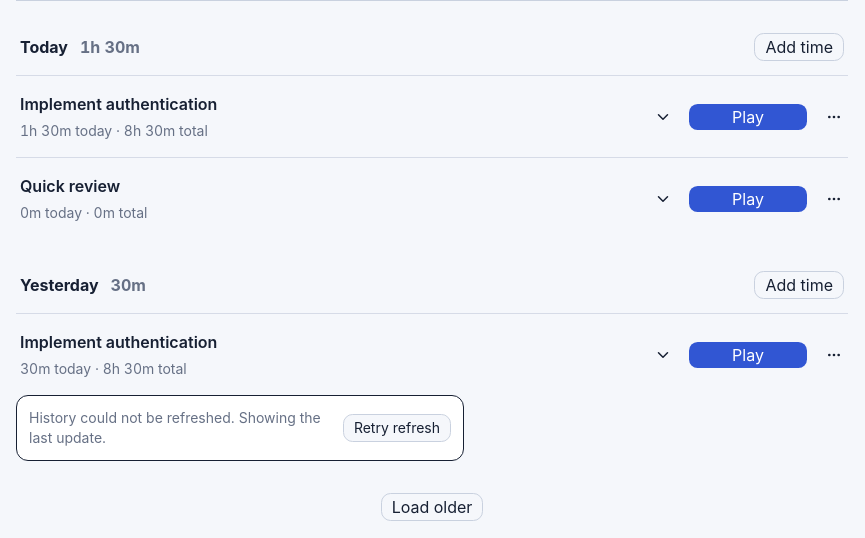
Test case: DailyHistory › reconciles on a timer revision and retains data with retry after failure
The width and height of the screenshot is (865, 538).
Expected: the message shows "History could not be refreshed. Showing the last update.", [29,409,321,446]
Expected: the text "1h 30m" is shown, [80,35,140,59]
Click the button "Retry refresh" at (397, 428), box [343,414,451,442]
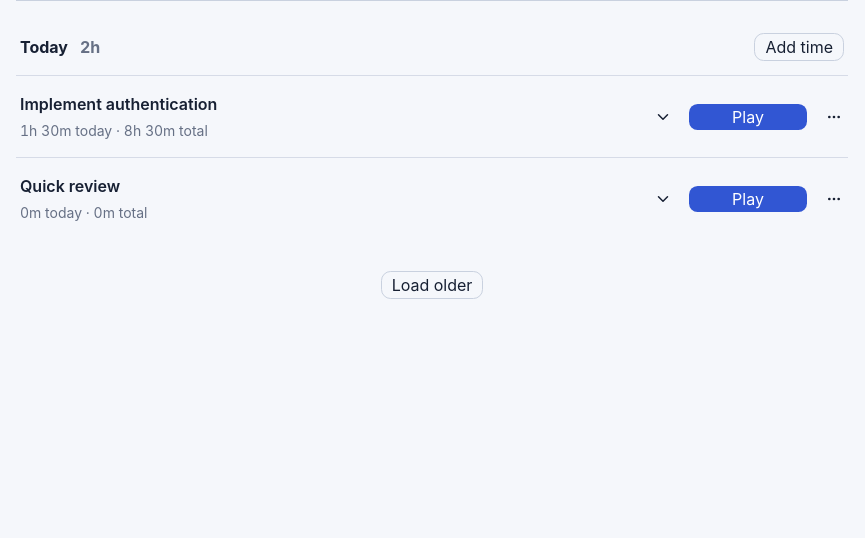
Expected: the text "2h" is shown, [80,35,100,59]
